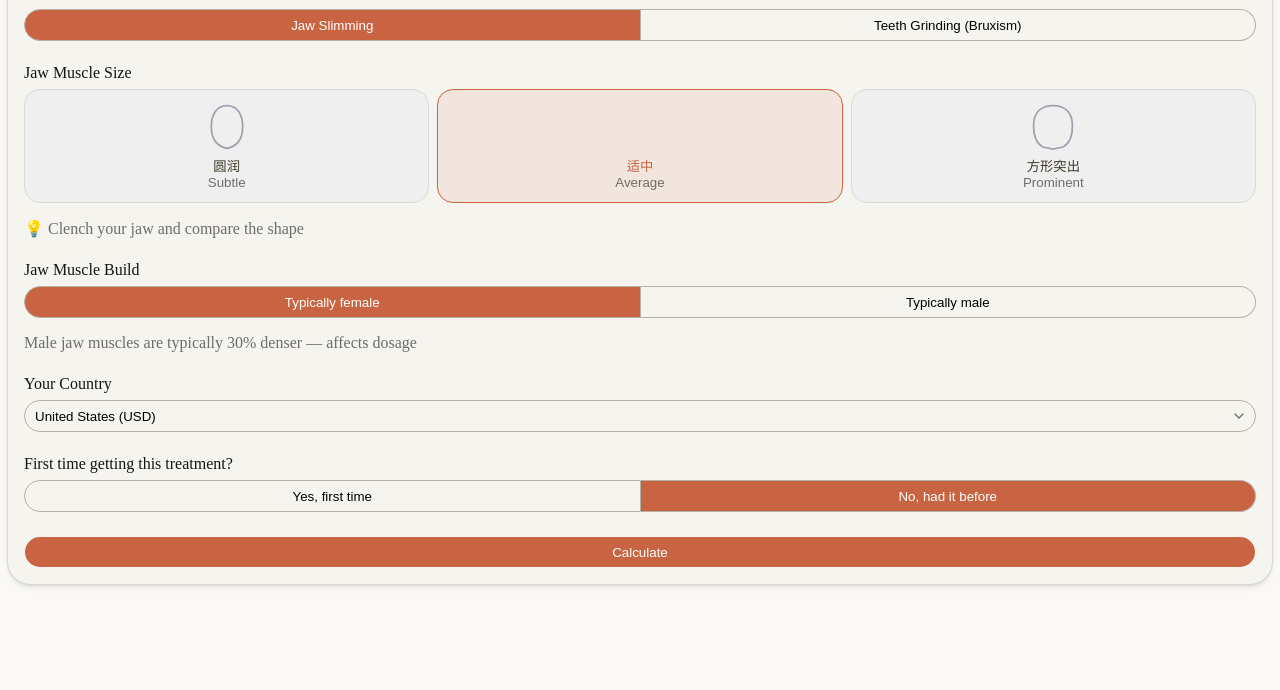
it: Calculator › shows result after clicking Calculate
Click the button "Calculate" at (640, 552), box [24,536,1256,568]
(page scrolled)
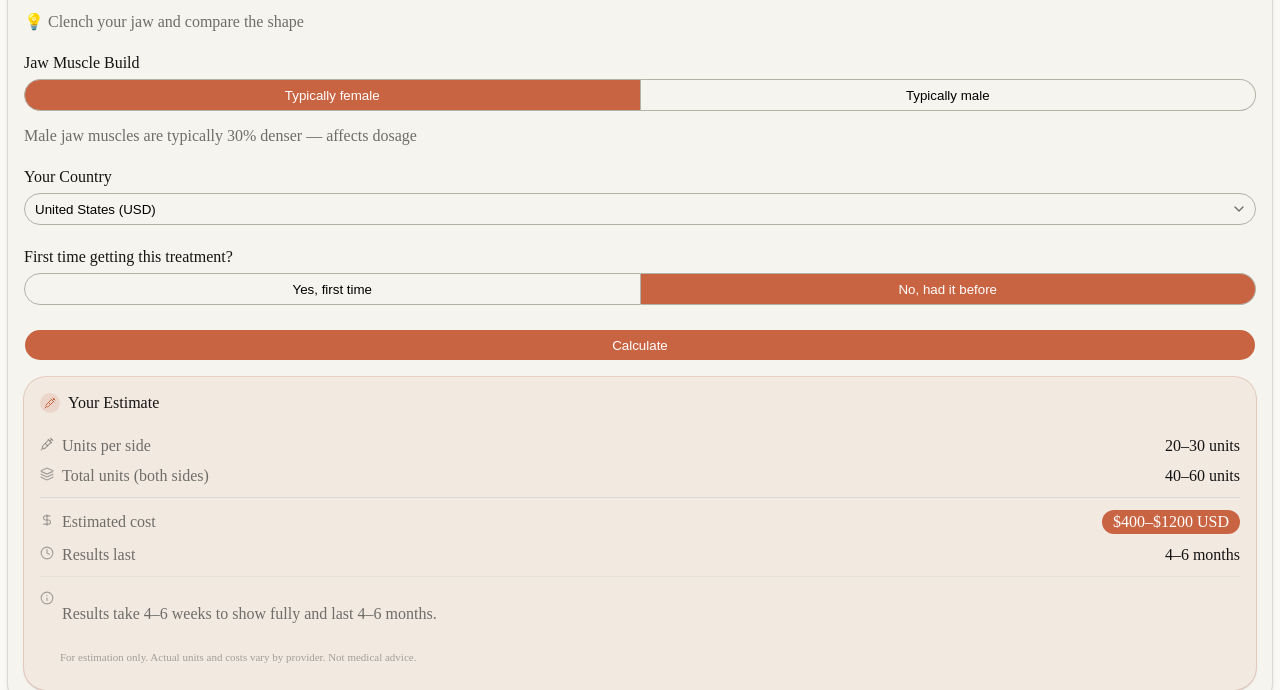
Check: the text "Your Estimate" is shown, box [40,393,159,413]
